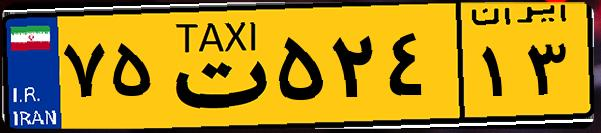1: (475, 38, 525, 113)
2: (330, 28, 385, 110)
3: (525, 38, 570, 115)
4: (385, 28, 445, 110)
5: (270, 28, 330, 110), (110, 28, 158, 98)
7: (57, 26, 110, 100)
ت: (158, 12, 270, 120)
